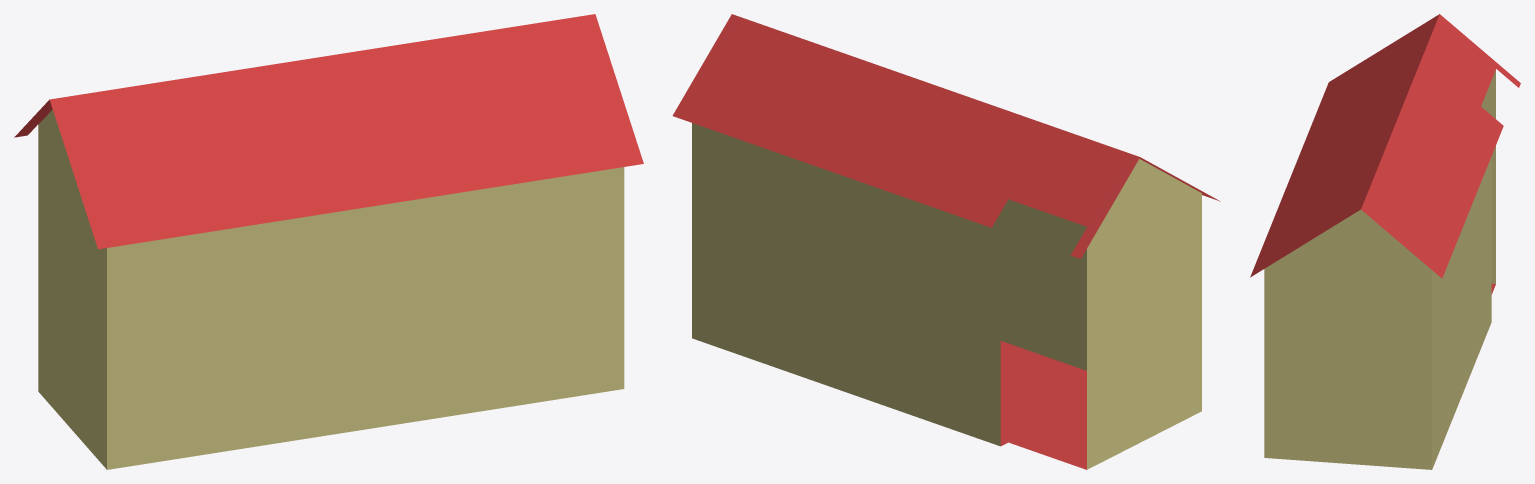
The picture shows the model from 3 angles, left to right: view 1: azimuth 30°, elevation 25°; view 2: azimuth 150°, elevation 25°; view 3: azimuth 270°, elevation 25°; orthographic projection. The views are drawn at different scales.
Parts seen in each view (by area): view 1: group_5, group_3; view 2: group_5, group_3, group_6, group_4; view 3: group_5, group_3, group_4.
Part boxes in pixels (left/top/right/bottom): group_5: left=38, top=109, right=624, bottom=469; group_3: left=14, top=14, right=643, bottom=249; group_5: left=692, top=123, right=1201, bottom=469; group_3: left=672, top=14, right=1220, bottom=258; group_6: left=1000, top=341, right=1086, bottom=469; group_4: left=674, top=31, right=1138, bottom=257; group_5: left=1264, top=70, right=1495, bottom=469; group_3: left=1250, top=14, right=1520, bottom=277; group_4: left=1368, top=15, right=1520, bottom=277.
Bounding box in the file's own units: 30.19 × 16.52 × 17.53.
